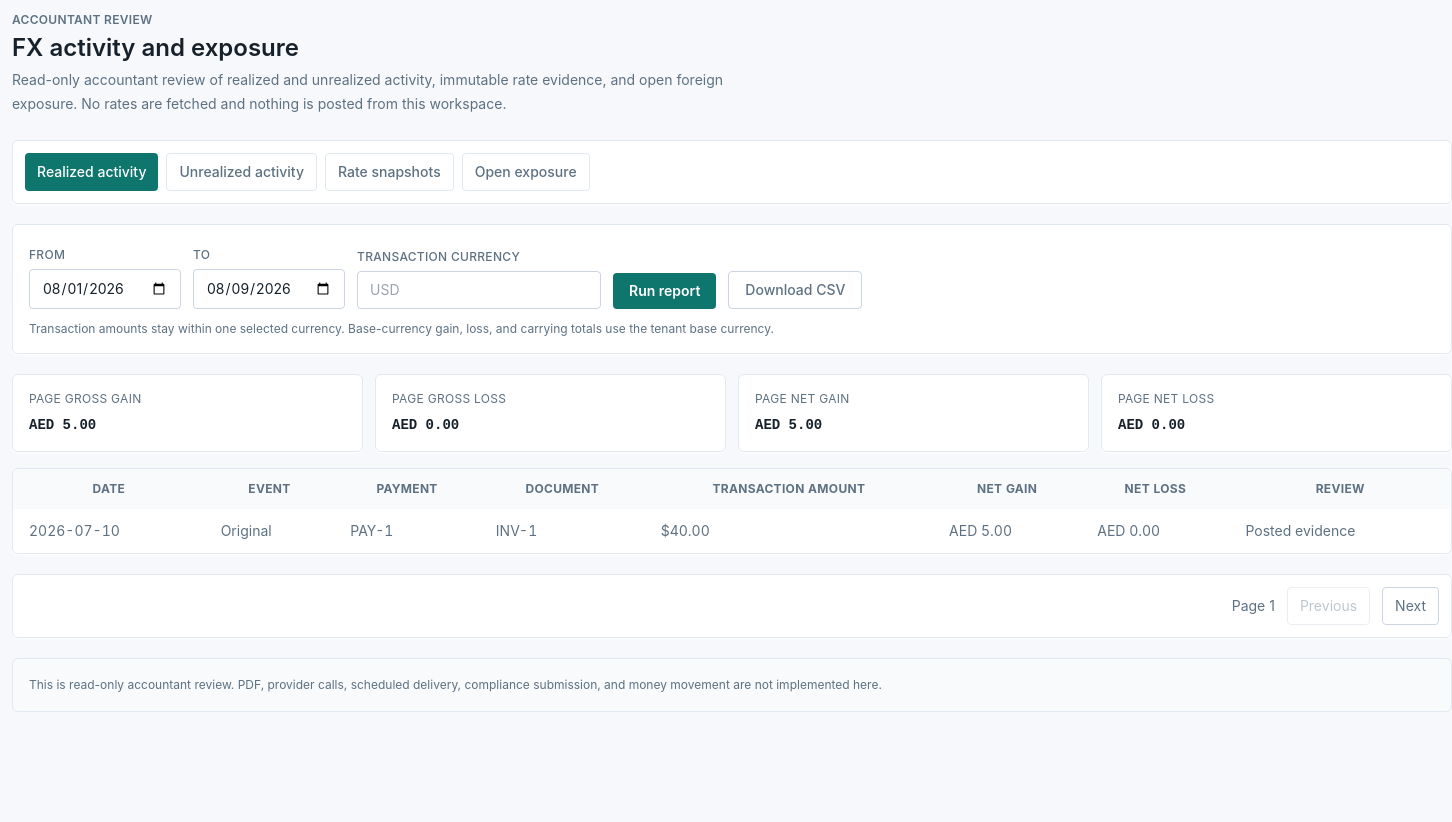
Scenario: FX activity report workspace › removes unsupported date controls and parameters for current open exposure
Expected: the text "PAY-1" is shown, [334,509,480,553]
Click the tab "Open exposure".
click(526, 172)  # box [462,153,590,191]
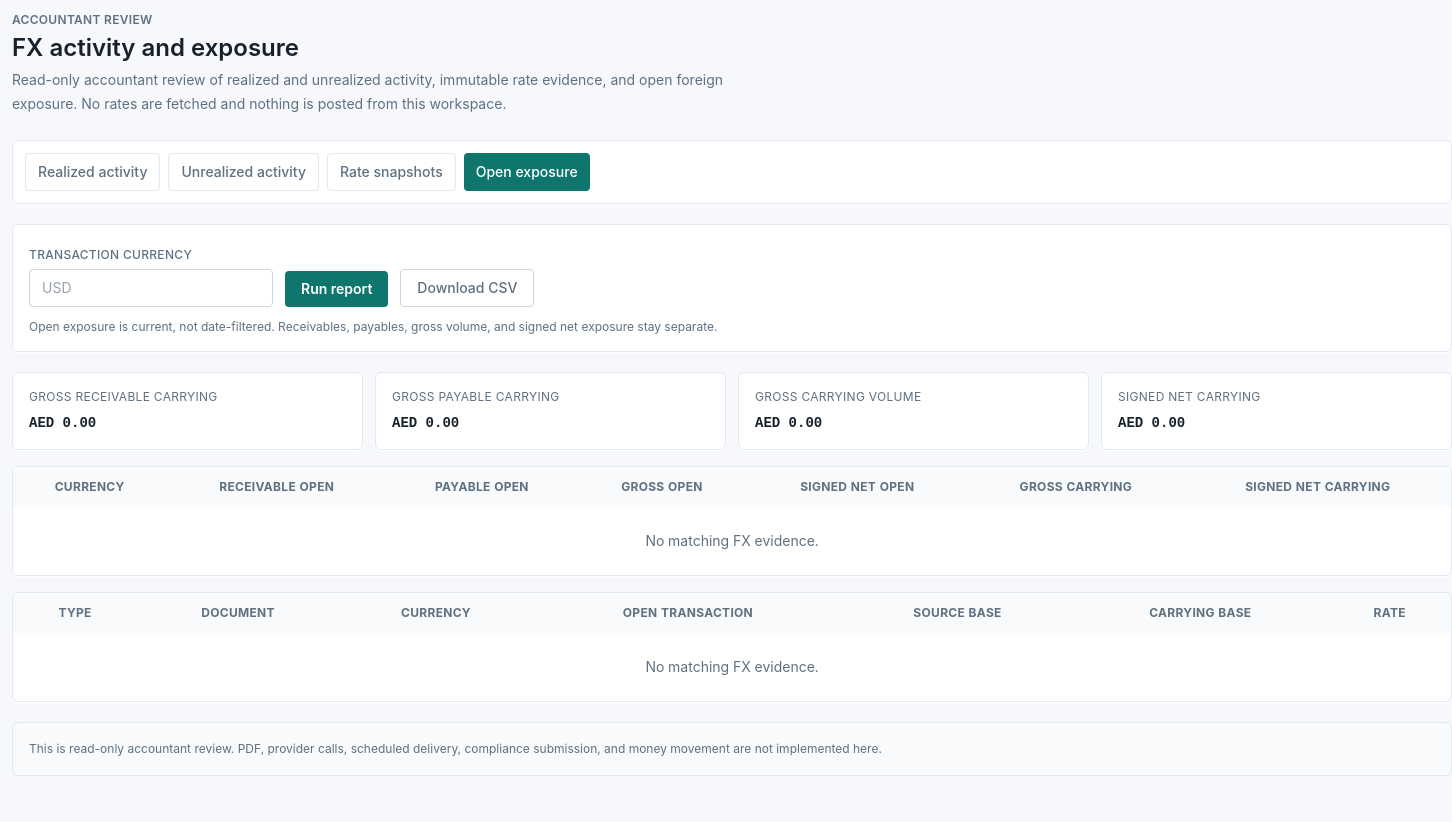
Now the date field labelled "From" is gone
Now the text labelled "To" is gone
Now the text "Open exposure is current, not date-filtered" is shown, box [29,319,717,334]
